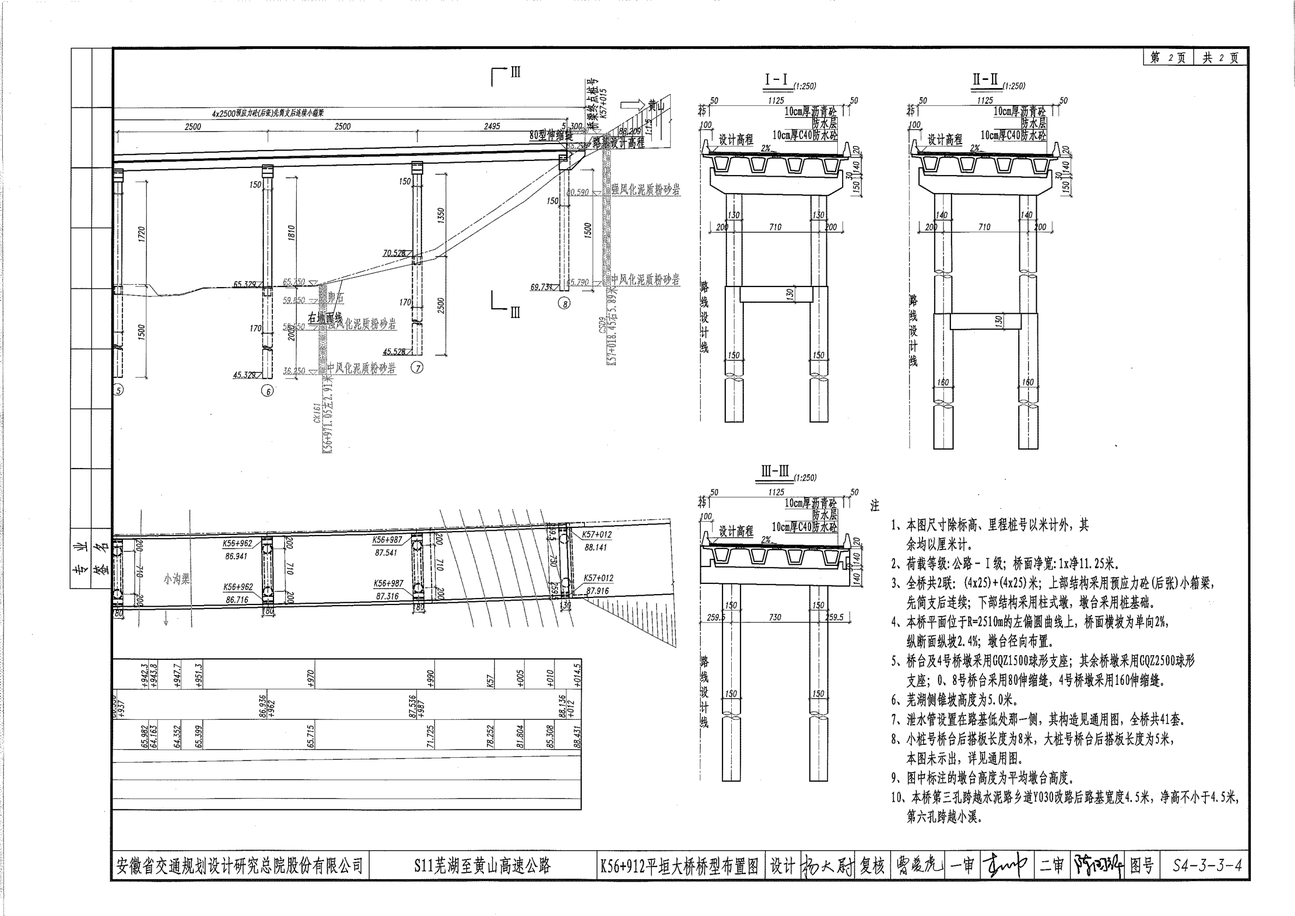A: (82, 59, 669, 412)
